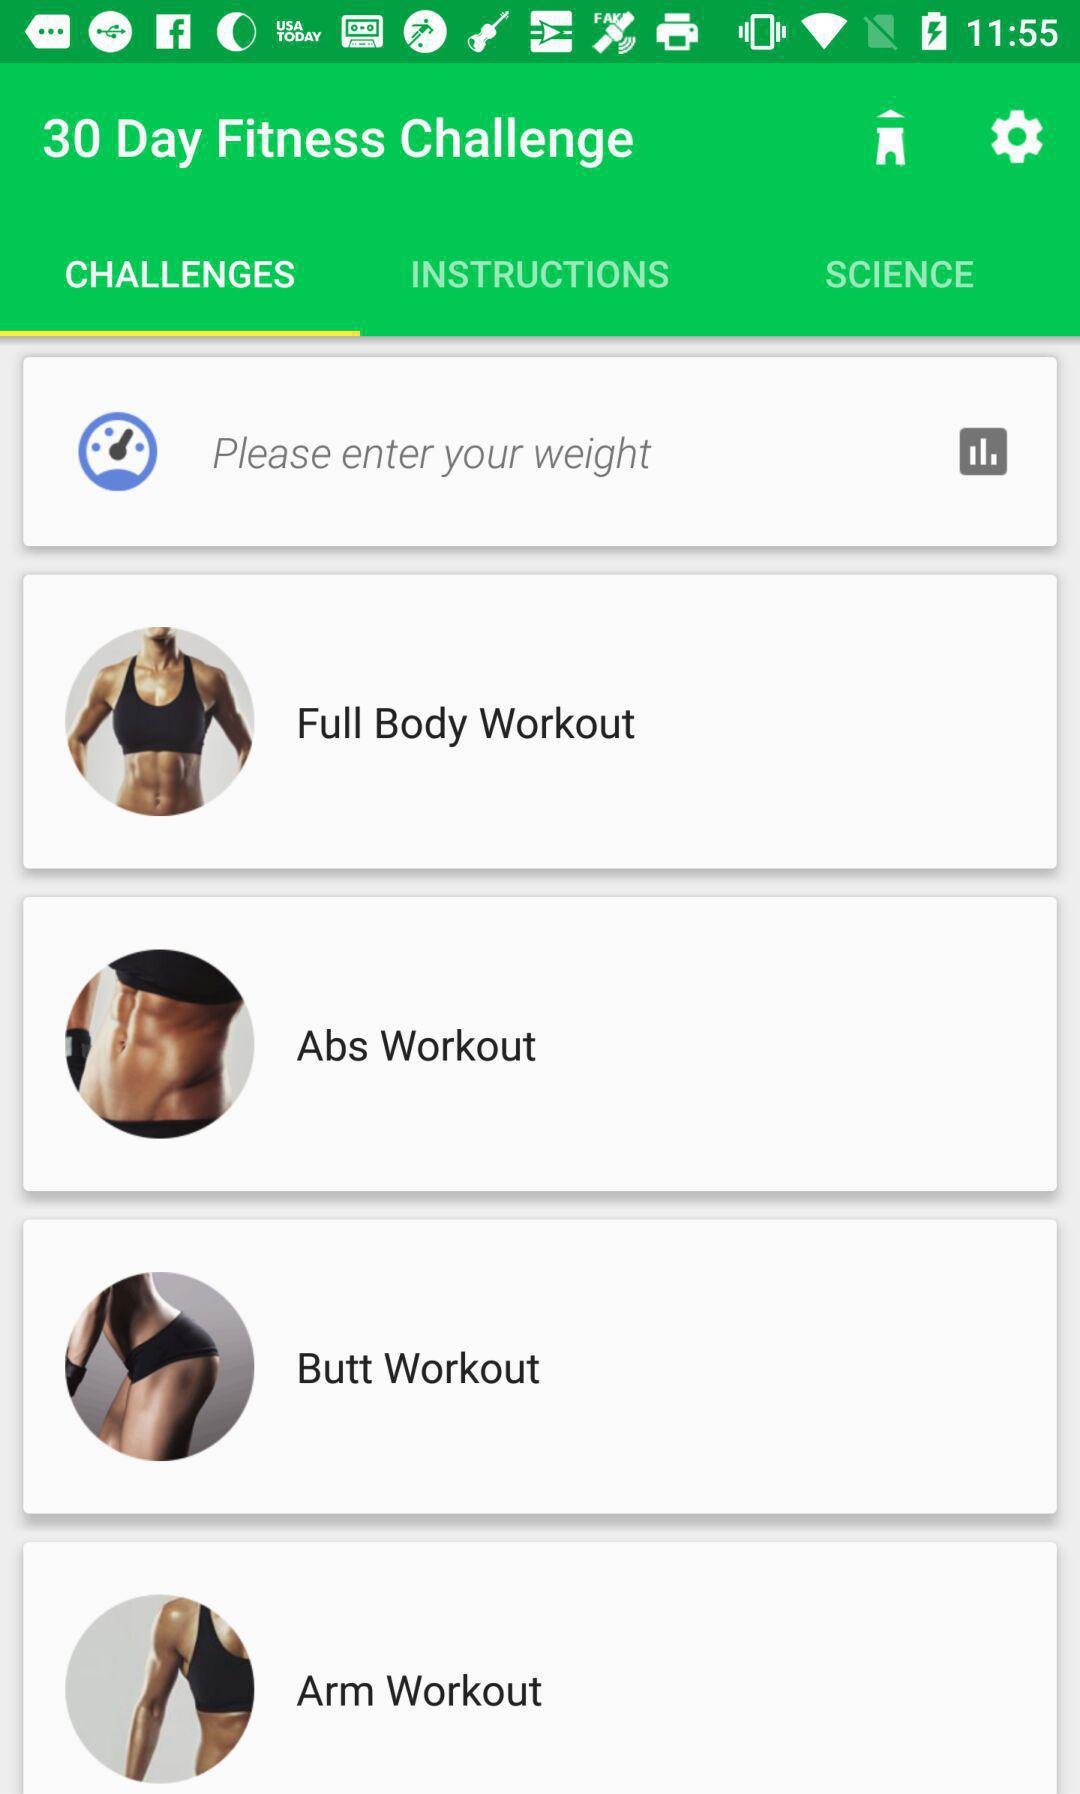Card: (18, 566, 1065, 887), (17, 892, 1063, 1199), (19, 1214, 1062, 1521), (20, 1536, 1060, 1793), (22, 356, 1068, 548)
Icon: (989, 109, 1044, 167), (958, 425, 1008, 477)
Image: (65, 1593, 256, 1785), (64, 1271, 256, 1462), (65, 950, 258, 1140), (65, 627, 256, 818), (77, 411, 159, 493), (872, 109, 907, 168)
Multi_Tab: (1, 259, 1079, 340)
Text: (42, 118, 635, 169), (213, 434, 653, 479), (299, 705, 637, 750), (296, 1028, 536, 1064), (297, 1674, 543, 1708), (299, 1351, 541, 1385), (413, 260, 670, 291), (65, 259, 296, 290), (824, 260, 974, 290)
UpperTaskBar: (1, 1, 1080, 64)
